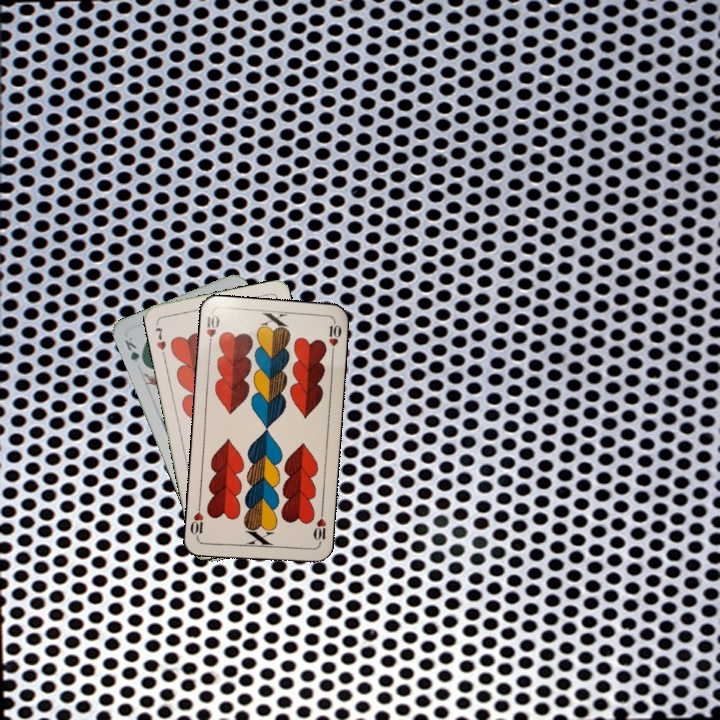GK: (120, 333, 148, 369)
H10: (309, 507, 329, 547), (203, 310, 222, 351)
H7: (151, 323, 169, 353)
